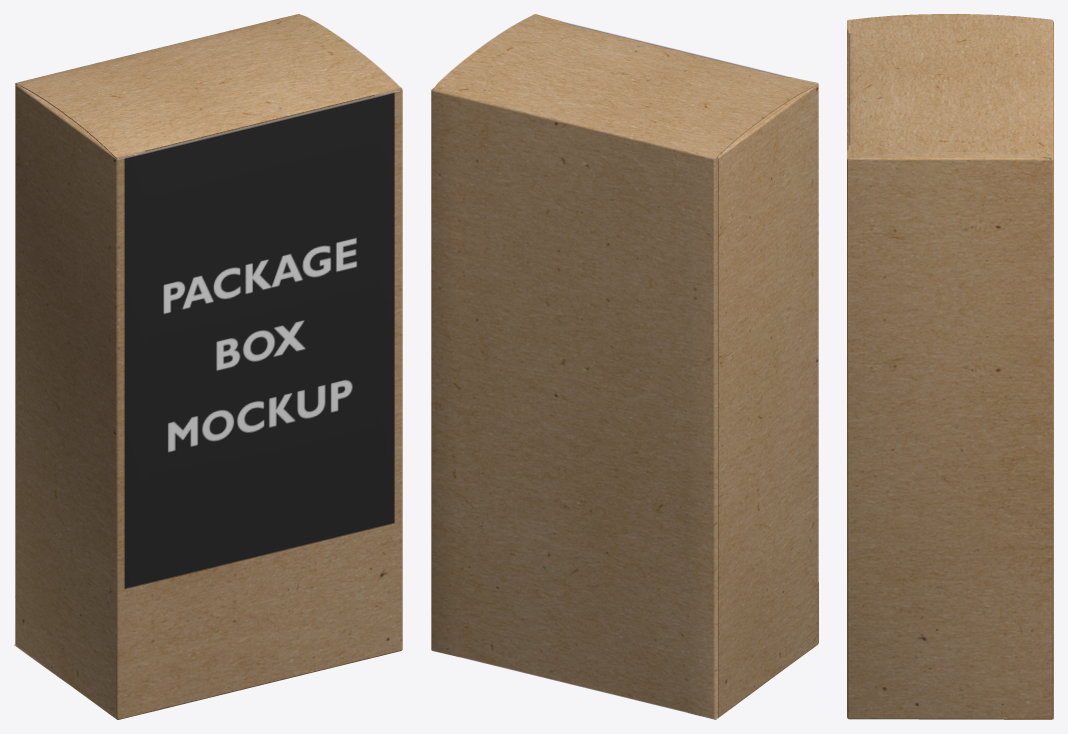
File: package_box_mockup.glb
3 views of the same model, side by side, from view 1: azimuth 30°, elevation 25°; view 2: azimuth 150°, elevation 25°; view 3: azimuth 270°, elevation 25° (orthographic).
Parts seen in each view (by area): view 1: 01 fustella.002_0; view 2: 01 fustella.002_0; view 3: 01 fustella.002_0.
Boxes of the visible parts, x1=… form: 01 fustella.002_0: x1=14, y1=14, x2=402, y2=719; 01 fustella.002_0: x1=431, y1=14, x2=818, y2=719; 01 fustella.002_0: x1=847, y1=14, x2=1053, y2=719.
Size of the model in its own units: 0.1054 by 0.1998 by 0.0661.
Materials: 1 (1 with a texture image).
